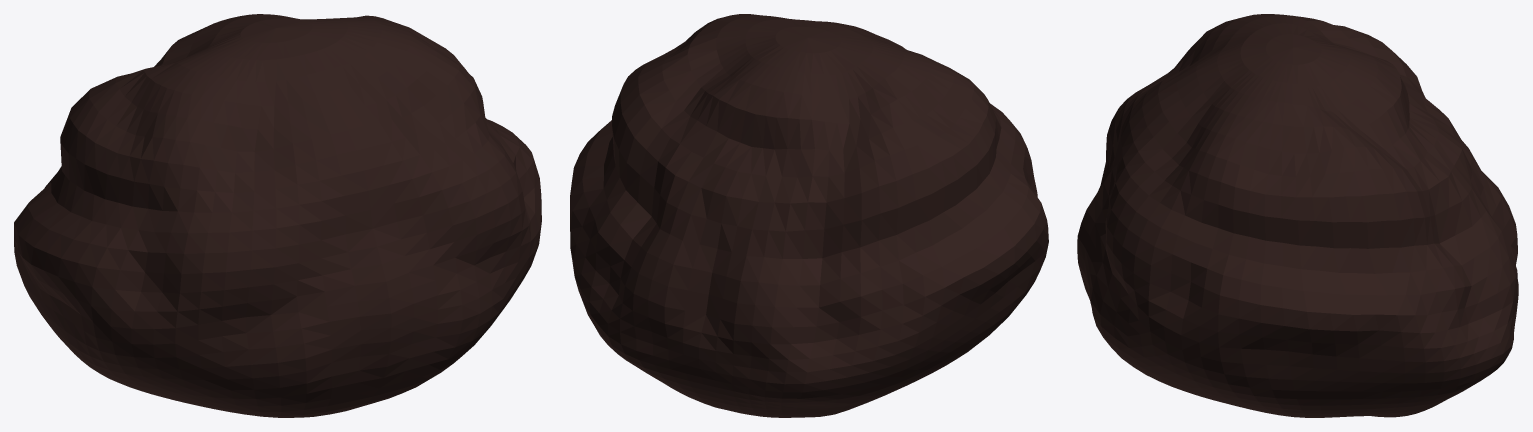
File: jord.dae
3 renders of one model, left to right at view 1: azimuth 30°, elevation 25°; view 2: azimuth 150°, elevation 25°; view 3: azimuth 270°, elevation 25°, orthographic. The views are drawn at different scales.
Parts seen in each view (by area): view 1: Sphere.002; view 2: Sphere.002; view 3: Sphere.002.
Part boxes in pixels (box(x1,y1,x2,y2)): Sphere.002: box(14, 14, 541, 417); Sphere.002: box(570, 14, 1048, 417); Sphere.002: box(1077, 14, 1518, 417).
Bounding box in the file's own units: 22.03 × 18.95 × 16.01.
